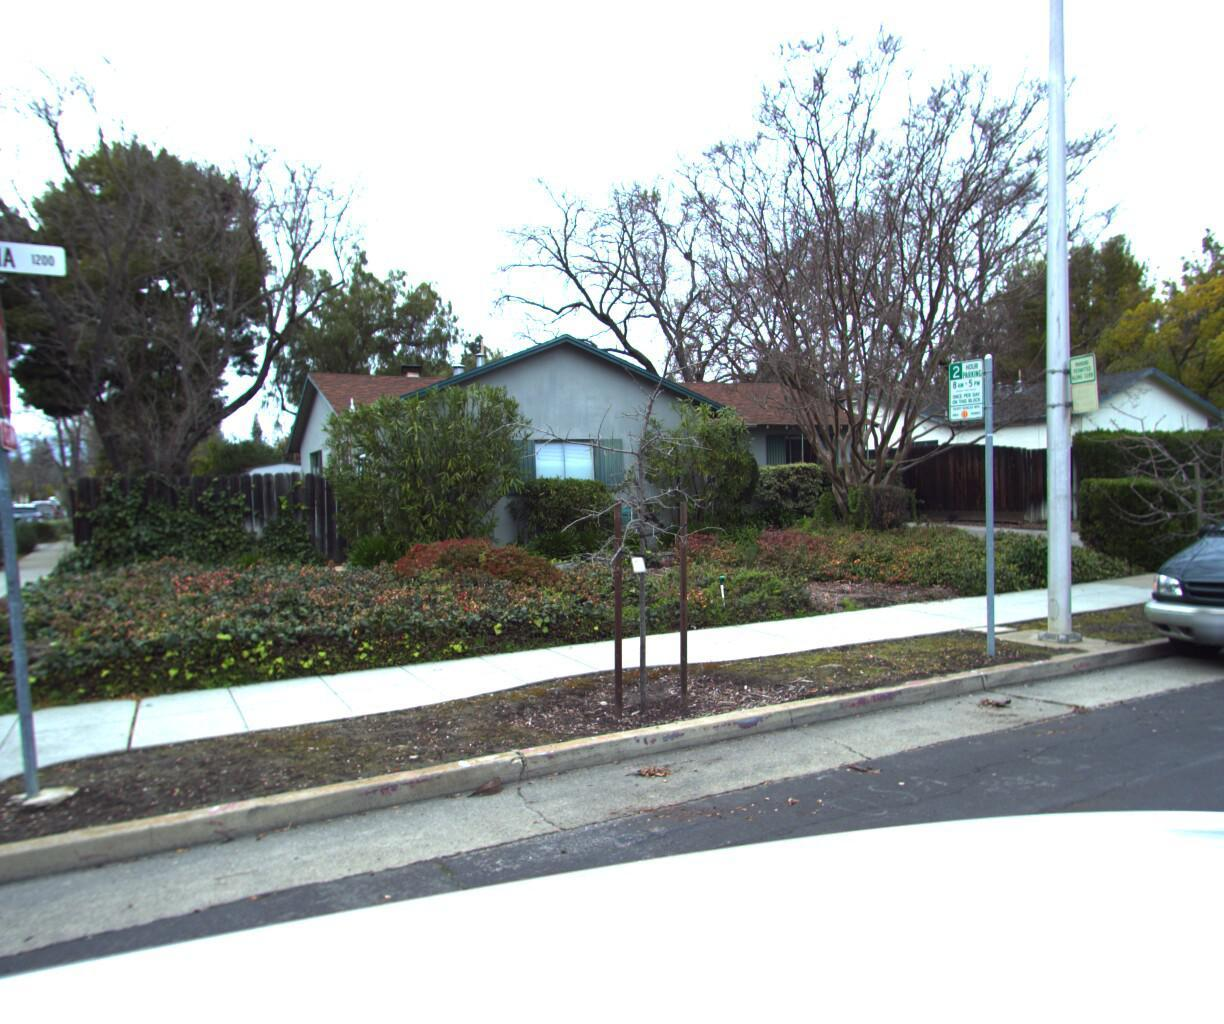car: (1096, 442, 1224, 704), (1184, 458, 1224, 506), (5, 506, 56, 542), (0, 508, 28, 556)
